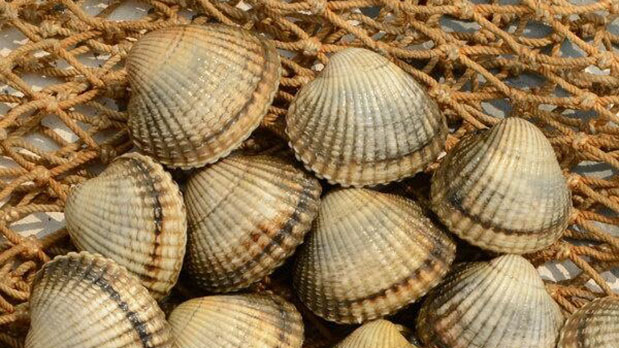cockle: (286, 184, 459, 326), (123, 22, 283, 169), (286, 46, 449, 188), (178, 152, 325, 299), (428, 115, 576, 256), (60, 151, 188, 303), (20, 245, 175, 348), (409, 252, 567, 348), (167, 289, 303, 348), (555, 290, 617, 348), (333, 315, 407, 348)
